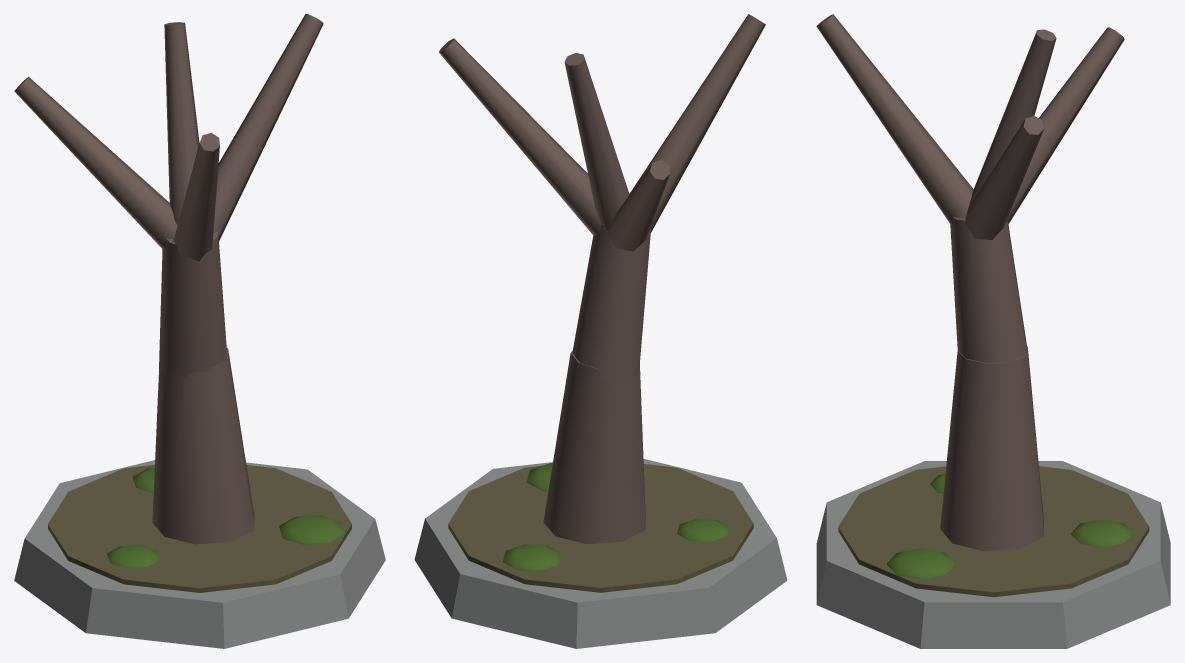
Rendered from village-cherry.glb.
3 renders of one model, left to right at view 1: azimuth 30°, elevation 25°; view 2: azimuth 150°, elevation 25°; view 3: azimuth 270°, elevation 25°, orthographic. The views are drawn at different scales.
Parts seen in each view (by area): view 1: sakura-bark, village-stone, ground, moss; view 2: sakura-bark, village-stone, ground, moss; view 3: sakura-bark, village-stone, ground, moss.
Boxes of the visible parts, <box> form: sakura-bark: <box>14,14,323,544</box>; village-stone: <box>14,460,385,648</box>; ground: <box>48,464,351,592</box>; moss: <box>107,468,344,568</box>; sakura-bark: <box>439,14,765,544</box>; village-stone: <box>414,458,787,648</box>; ground: <box>448,464,753,592</box>; moss: <box>503,463,729,570</box>; sakura-bark: <box>816,14,1124,551</box>; village-stone: <box>816,461,1170,648</box>; ground: <box>838,466,1149,597</box>; moss: <box>887,474,1132,579</box>.
Bounding box in the file's own units: 1.96 × 3.31 × 1.96.
